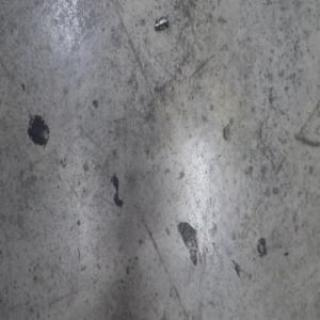Bolttrack_idkeyframe: (152, 11, 168, 30)
